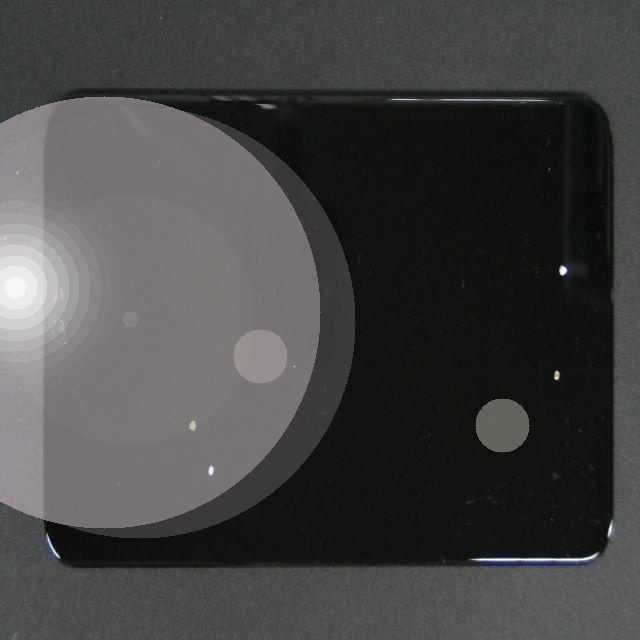stain: (289, 242, 640, 576), (89, 212, 300, 640), (301, 125, 640, 364), (99, 170, 287, 581)
